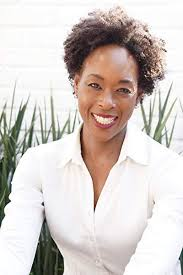black_female: (71, 35, 141, 140)
